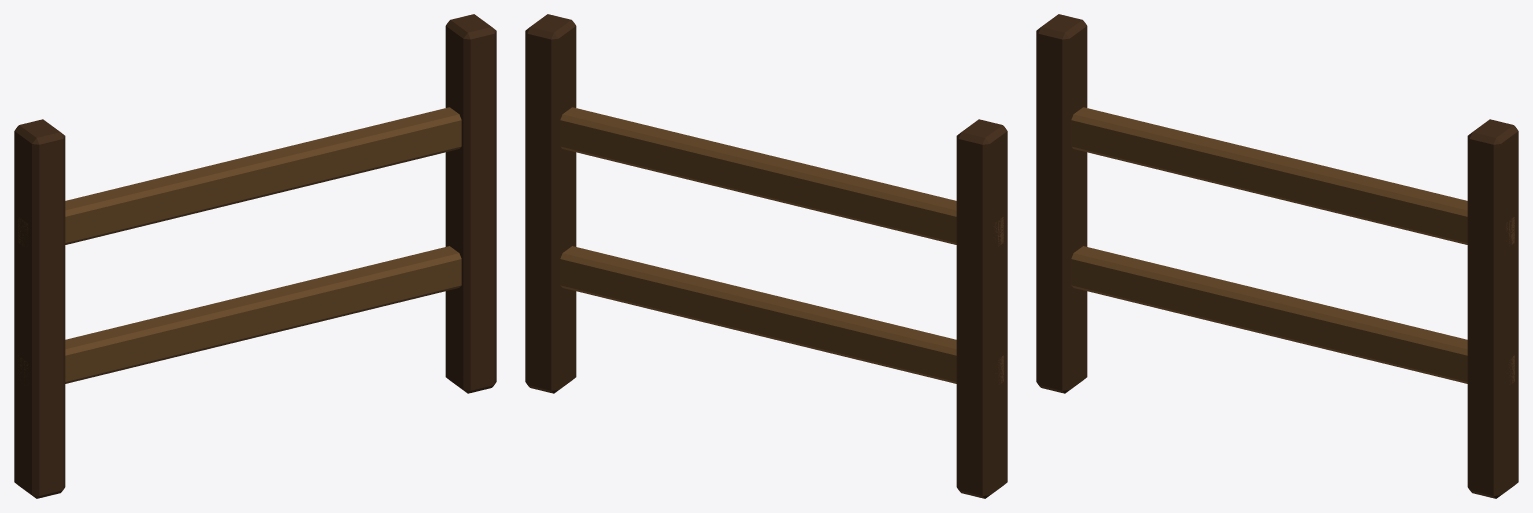
File: SM_ENV_Village_01_Fence.glb
3 views of the same model, side by side, from view 1: azimuth 30°, elevation 25°; view 2: azimuth 150°, elevation 25°; view 3: azimuth 330°, elevation 25° (orthographic).
Visible parts, largest first — view 1: SM_ENV_Village_01_Fence; view 2: SM_ENV_Village_01_Fence; view 3: SM_ENV_Village_01_Fence.
Part boxes in pixels (x1,y1,x2,y2): SM_ENV_Village_01_Fence: [14, 14, 496, 498]; SM_ENV_Village_01_Fence: [525, 14, 1007, 498]; SM_ENV_Village_01_Fence: [1036, 14, 1518, 498].
Bounding box in the file's own units: 1.4 × 1.04 × 0.12.
